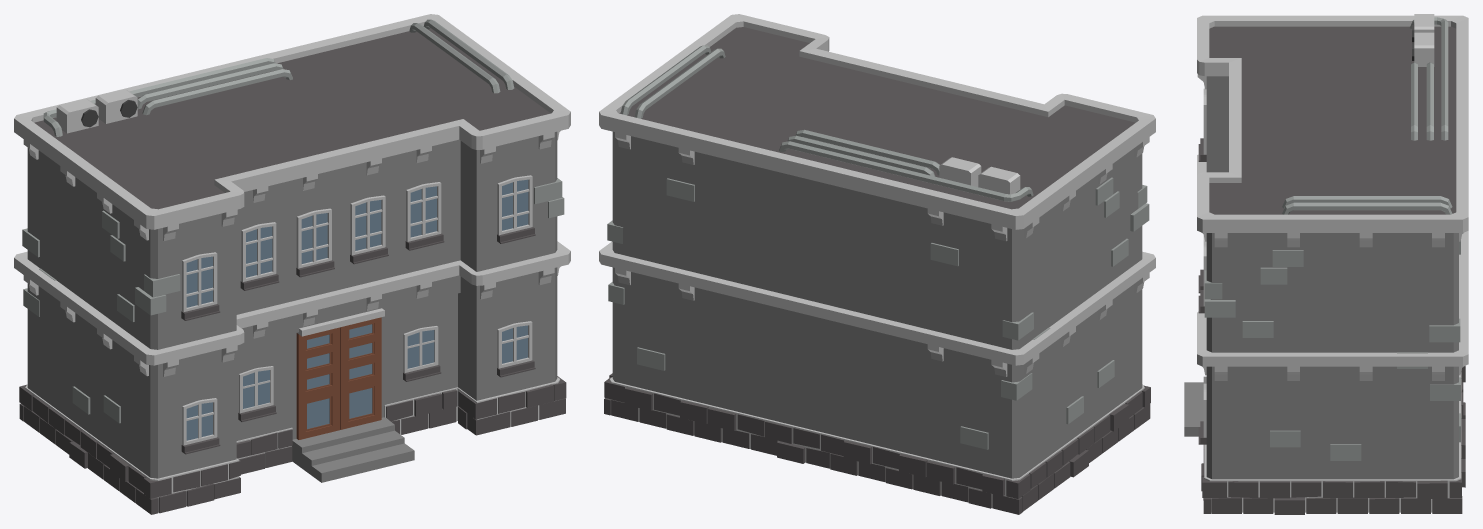
The model's file is 2Story_Wide.glb.
3 renders of one model, left to right at view 1: azimuth 30°, elevation 25°; view 2: azimuth 150°, elevation 25°; view 3: azimuth 270°, elevation 25°, orthographic.
Parts seen in each view (by area): view 1: 2Story_Wide_Cube.032; view 2: 2Story_Wide_Cube.032; view 3: 2Story_Wide_Cube.032.
Part boxes in pixels (box(x1,y1,x2,y2)): 2Story_Wide_Cube.032: box(14, 14, 570, 514); 2Story_Wide_Cube.032: box(599, 14, 1155, 514); 2Story_Wide_Cube.032: box(1184, 14, 1468, 514).
Size of the model in its own units: 3.83 by 2.75 by 2.26.
Materials: 1 (1 with a texture image).
